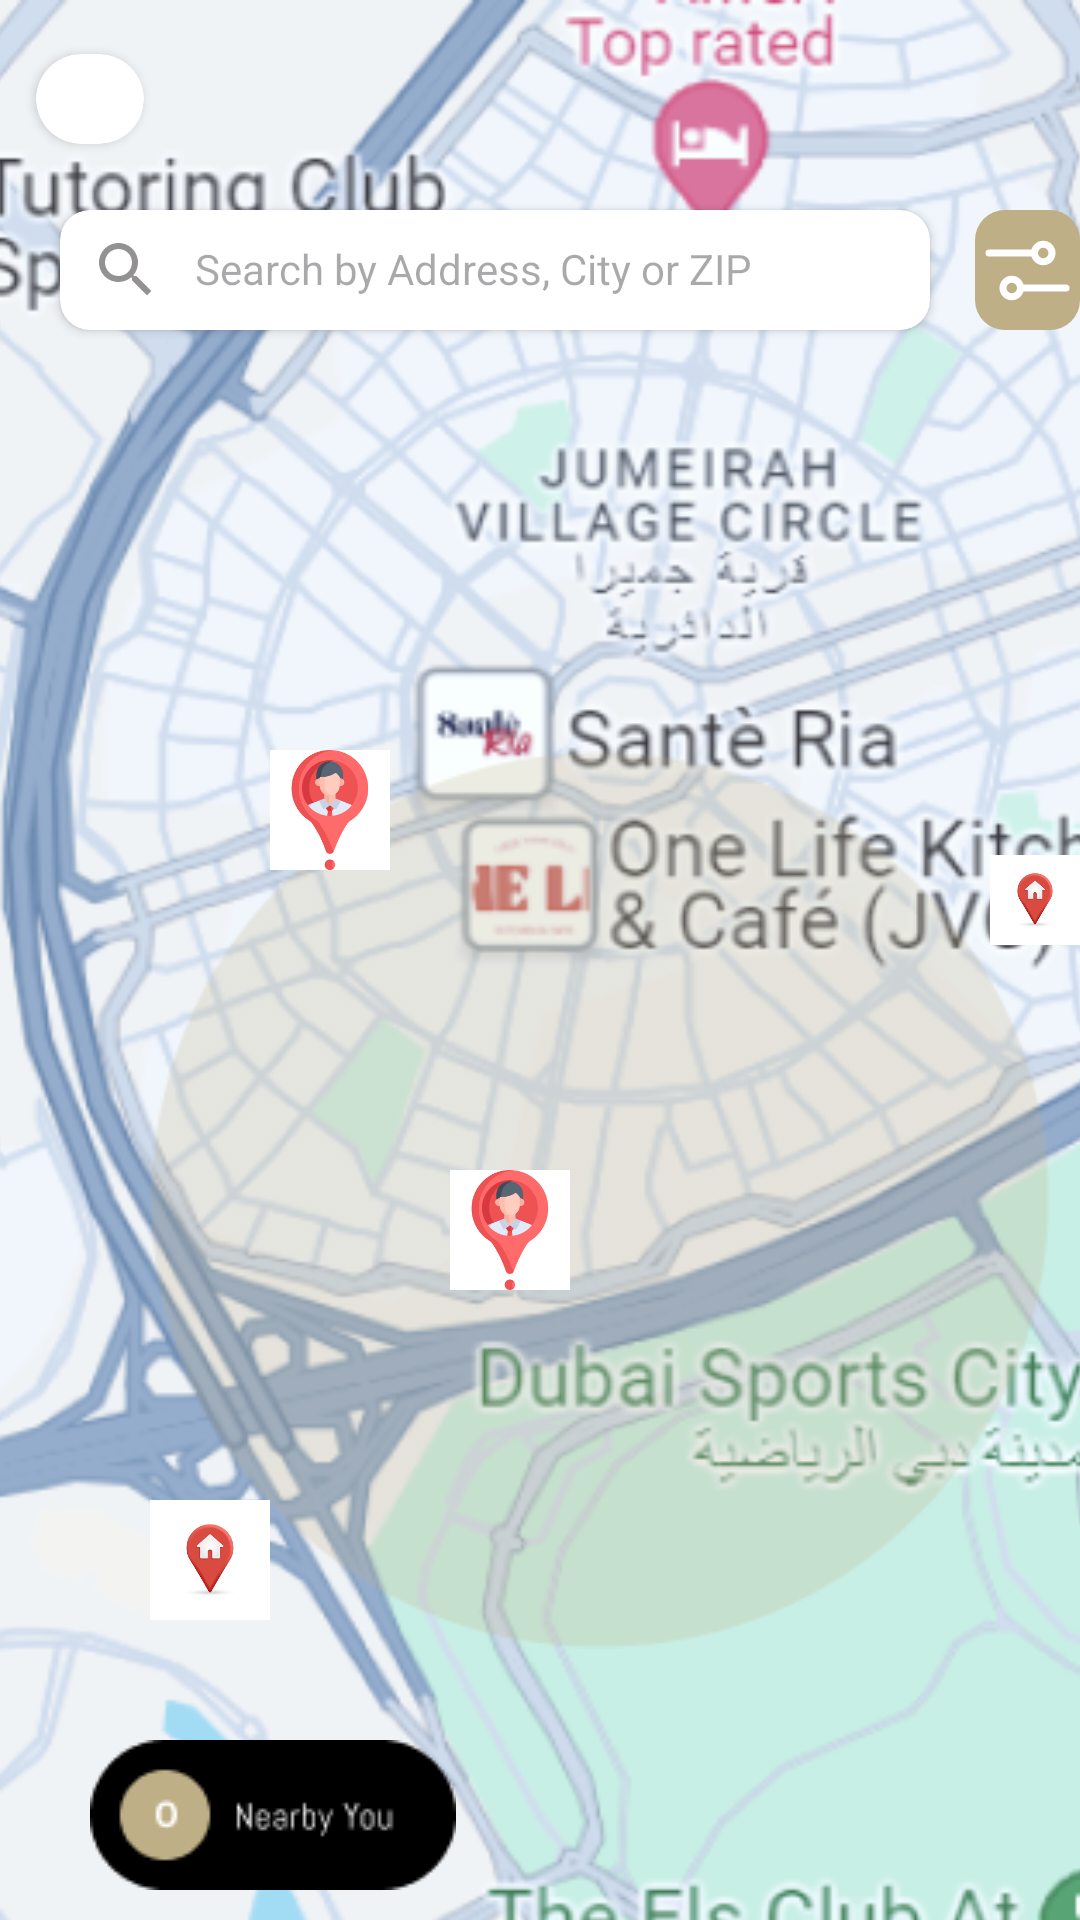

Screen size 1080w x 1920h. Icon name, then its center in pixels as point (x, y):
filter: point (1027, 270)
user: point (330, 810), point (510, 1230)
